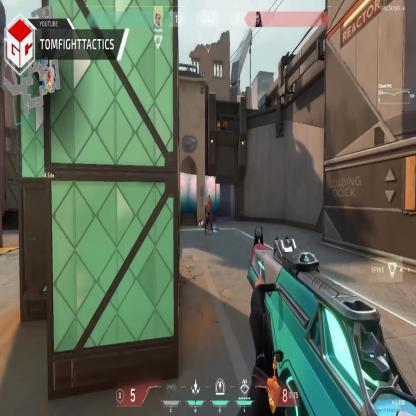enemy: (204, 194, 214, 236)
enemy_head: (208, 196, 210, 203)
